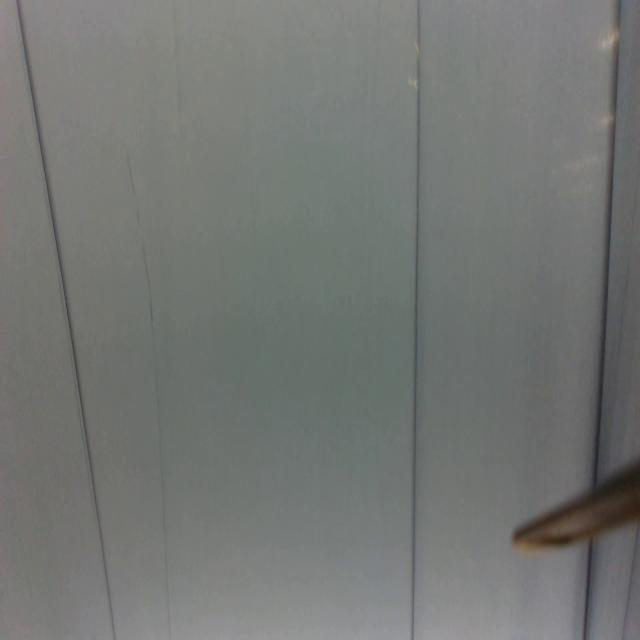crease: (17, 1, 116, 640), (127, 153, 171, 640), (593, 0, 622, 477), (410, 0, 423, 640), (621, 521, 639, 640), (581, 537, 596, 640), (170, 0, 183, 113)
